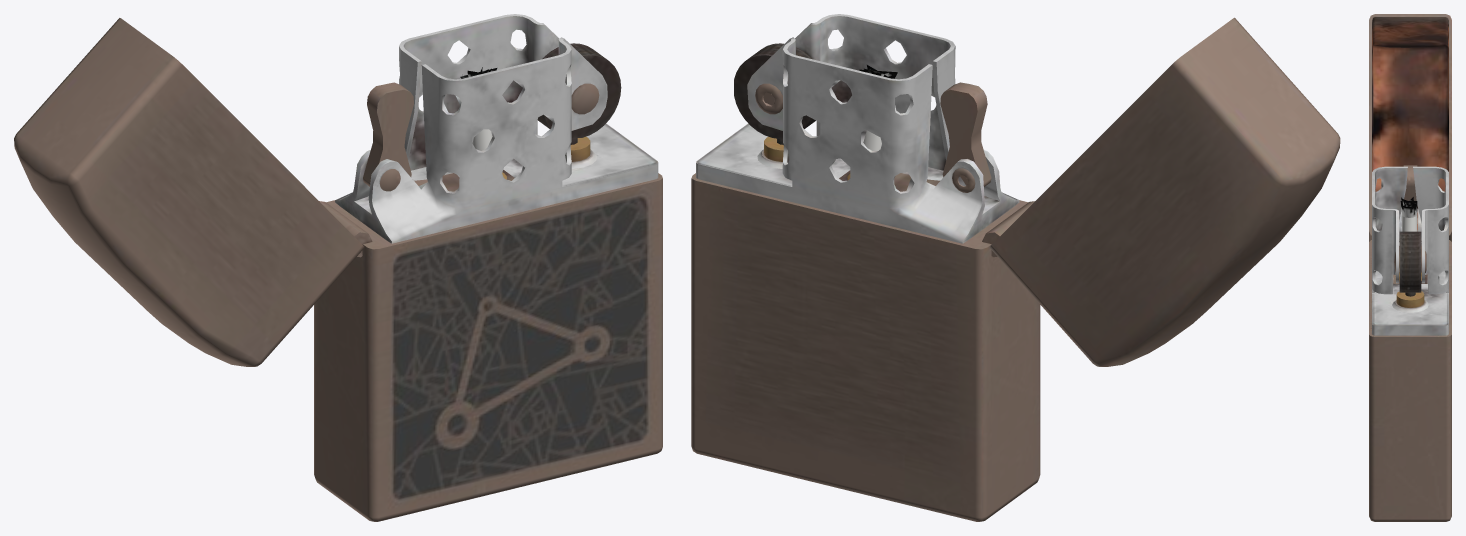
Rendered from vintage_lighter.glb.
The picture shows the model from 3 angles, left to right: view 1: azimuth 30°, elevation 25°; view 2: azimuth 150°, elevation 25°; view 3: azimuth 270°, elevation 25°; orthographic projection. The views are drawn at different scales.
Visible parts, largest first — view 1: vintage_lighter_body, vintage_lighter_hinge, vintage_lighter_hammer, vintage_lighter_flintstone; view 2: vintage_lighter_body, vintage_lighter_hinge, vintage_lighter_hammer, vintage_lighter_flintstone; view 3: vintage_lighter_body, vintage_lighter_hinge, vintage_lighter_flintstone, vintage_lighter_hammer.
Boxes of the visible parts, <box> form: vintage_lighter_body: <box>314,14,662,521</box>; vintage_lighter_hinge: <box>14,18,372,366</box>; vintage_lighter_hammer: <box>363,82,413,191</box>; vintage_lighter_flintstone: <box>537,43,621,138</box>; vintage_lighter_body: <box>691,14,1040,521</box>; vintage_lighter_hinge: <box>982,17,1340,366</box>; vintage_lighter_hammer: <box>940,82,991,192</box>; vintage_lighter_flintstone: <box>734,43,815,138</box>; vintage_lighter_body: <box>1369,166,1451,521</box>; vintage_lighter_hinge: <box>1369,14,1451,241</box>; vintage_lighter_flintstone: <box>1394,231,1426,292</box>; vintage_lighter_hammer: <box>1403,165,1417,217</box>.
Size of the model in its own units: 0.0796 by 0.065 by 0.014.
Materials: 2 (2 with a texture image).
